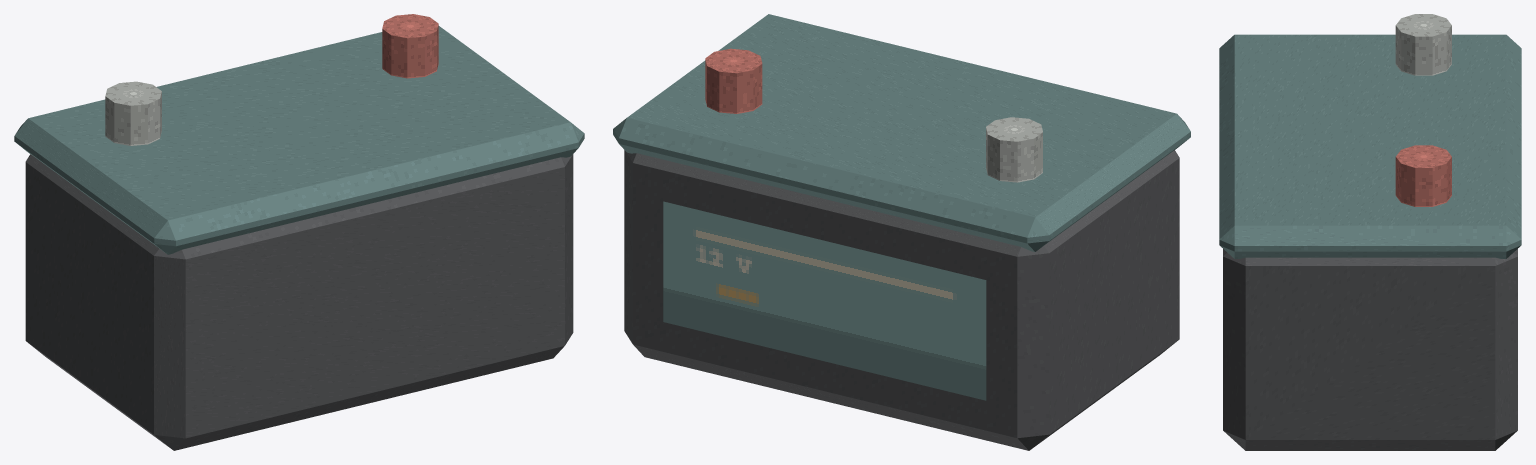
Rendered from battery_car.glb.
The picture shows the model from 3 angles, left to right: view 1: azimuth 30°, elevation 25°; view 2: azimuth 150°, elevation 25°; view 3: azimuth 270°, elevation 25°; orthographic projection. The views are drawn at different scales.
Visible parts, largest first — view 1: block_battery casing, block_molded terminal cover, block_post (×2); view 2: block_battery casing, block_molded terminal cover, block_rating label, block_post (×2); view 3: block_molded terminal cover, block_battery casing, block_post (×2).
Part boxes in pixels (x1=…): block_battery casing: x1=25, y1=154, x2=573, y2=450; block_molded terminal cover: x1=14, y1=26, x2=584, y2=254; block_post (×2): x1=105, y1=14, x2=438, y2=145; block_battery casing: x1=624, y1=150, x2=1179, y2=450; block_molded terminal cover: x1=613, y1=14, x2=1190, y2=251; block_rating label: x1=663, y1=201, x2=986, y2=400; block_post (×2): x1=705, y1=48, x2=1042, y2=182; block_molded terminal cover: x1=1219, y1=34, x2=1521, y2=258; block_battery casing: x1=1223, y1=249, x2=1517, y2=450; block_post (×2): x1=1395, y1=14, x2=1451, y2=206.
Bounding box in the file's own units: 0.3663 × 0.2259 × 0.2294.
Materials: 1 (1 with a texture image).
